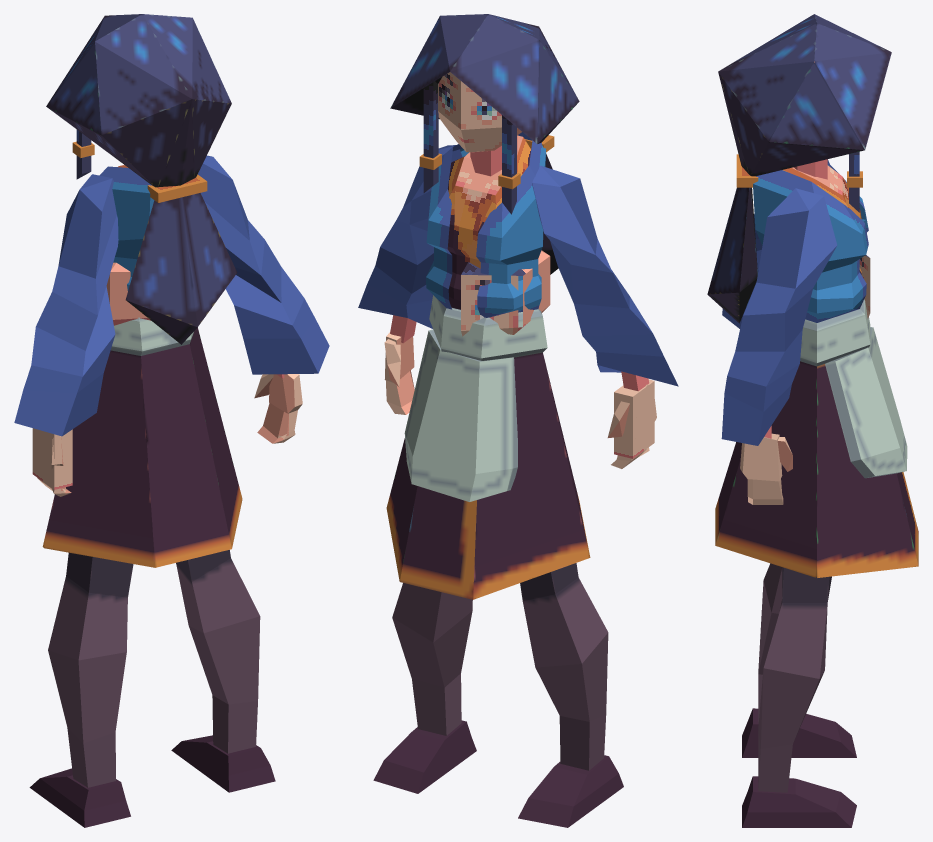
File: alz character model test.fbx
3 renders of one model, left to right at view 1: azimuth 30°, elevation 25°; view 2: azimuth 150°, elevation 25°; view 3: azimuth 270°, elevation 25°, orthographic. The views are drawn at different scales.
Visible parts, largest first — view 1: dress, hair top, sleve 2, leg 2, hair back, leg 1, fore arm 1 inner, sleve 1, foot 2, foot 1, jacket torso inner, thigh 2 (+10 smaller); view 2: dress, apron, hair top, sleve 2, leg 2, jacket torso inner, leg 1, fore arm 1 inner, tors, foot 2, wrap, foot 1 (+14 smaller); view 3: dress, hair top, leg 1, fore arm 1 inner, apron, sleve 1, jacket torso inner, foot 1, hair back, wrap, foot 2, leg 2 (+9 smaller).
Part boxes in pixels (x1,y1,x2,y2): dress: (43, 327, 242, 567); hair top: (46, 14, 231, 187); sleve 2: (14, 174, 118, 436); leg 2: (48, 576, 127, 787); hair back: (125, 193, 237, 344); leg 1: (176, 558, 260, 753); fore arm 1 inner: (226, 240, 329, 374); sleve 1: (198, 155, 264, 275); foot 2: (29, 768, 130, 827); foot 1: (171, 735, 275, 792); jacket torso inner: (99, 166, 154, 290); thigh 2: (66, 552, 133, 597); dress: (386, 352, 590, 599); apron: (404, 329, 517, 501); hair top: (390, 14, 579, 144); sleve 2: (532, 165, 678, 386); leg 2: (522, 577, 608, 770); jacket torso inner: (426, 132, 545, 317); leg 1: (392, 583, 472, 735); fore arm 1 inner: (358, 220, 433, 328); tors: (447, 135, 530, 309); foot 2: (518, 755, 623, 827); wrap: (429, 295, 547, 360); foot 1: (373, 720, 476, 793); dress: (715, 361, 918, 577); hair top: (718, 14, 891, 176); leg 1: (758, 599, 827, 792); fore arm 1 inner: (721, 288, 812, 445); apron: (825, 327, 907, 478); sleve 1: (743, 188, 837, 315); jacket torso inner: (753, 162, 868, 322); foot 1: (742, 776, 856, 827); hair back: (707, 187, 757, 323); wrap: (800, 299, 870, 366); foot 2: (742, 708, 856, 757); leg 2: (758, 563, 782, 722).
Size of the model in its own units: 211 by 489 by 123.
Materials: 13 (13 with a texture image).
